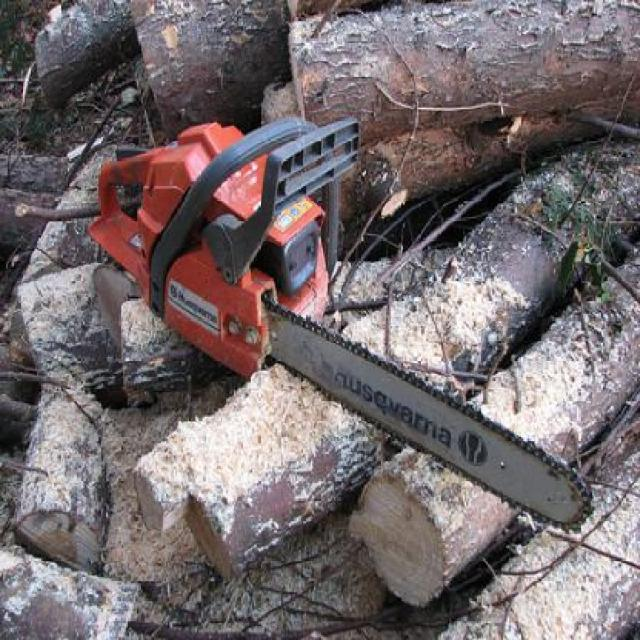Chainsaw: (89, 118, 593, 536)
